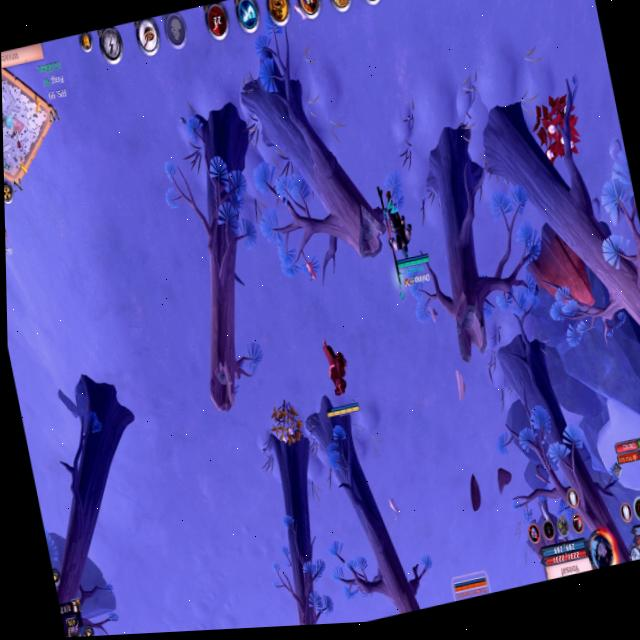hide: (523, 72, 596, 194), (264, 384, 309, 457)
red: (372, 173, 435, 302), (309, 325, 366, 427), (444, 564, 498, 602), (5, 214, 17, 271)
tree: (512, 207, 607, 332), (517, 503, 586, 584)
